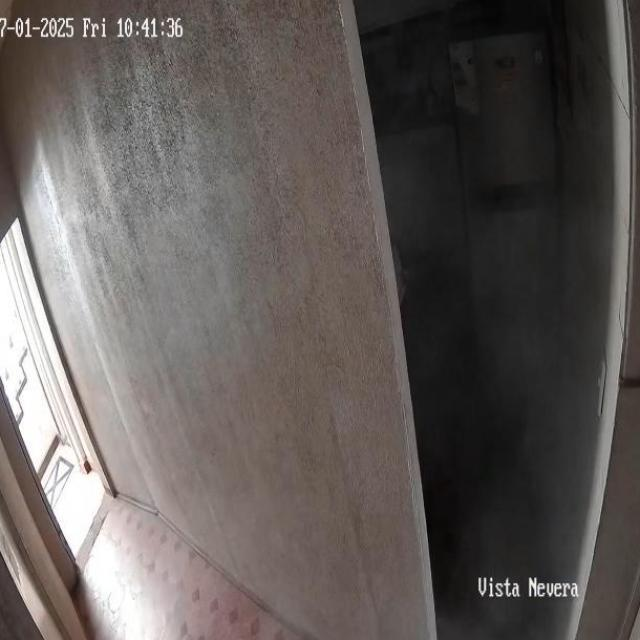fire: (426, 181, 609, 640)
